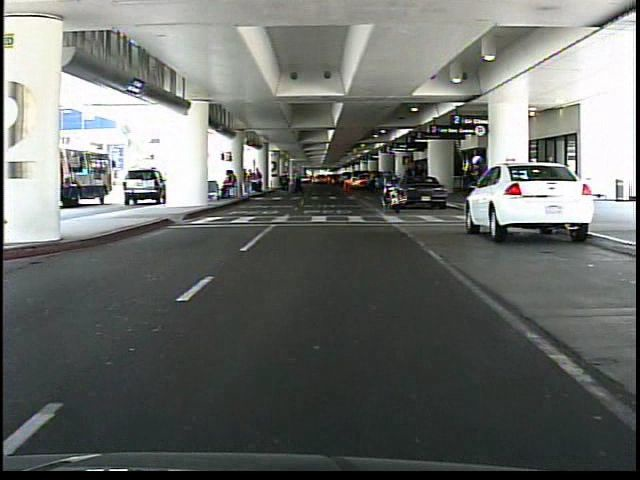person: (463, 150, 488, 224)
